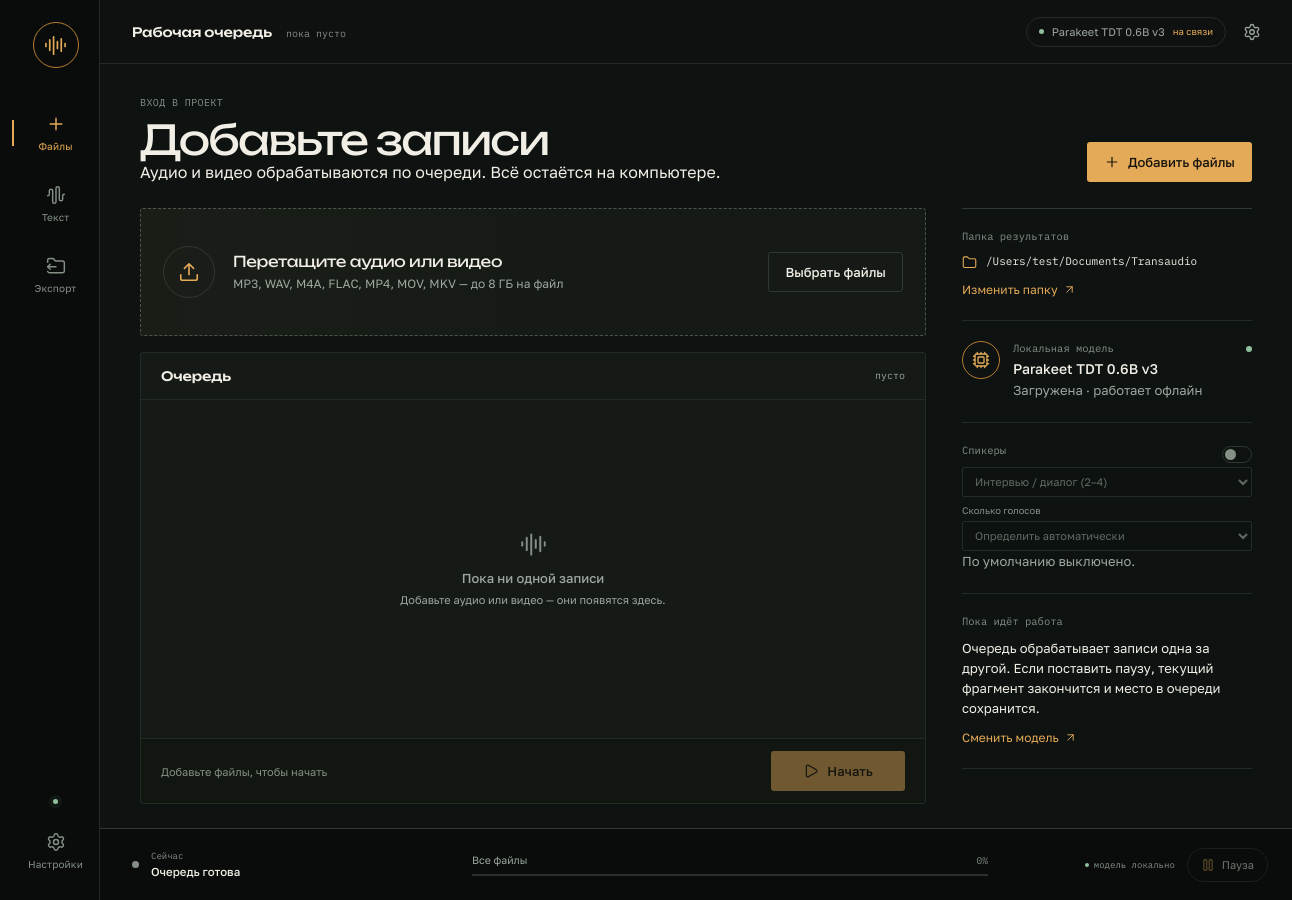
app shell › starts only new files and opens a finished transcript on click
The width and height of the screenshot is (1292, 900).
Check: the navigation bar named "Основная навигация" is shown, box [12, 102, 99, 306]
Click the button "Добавить файлы" at (1170, 162), box [1087, 142, 1252, 182]
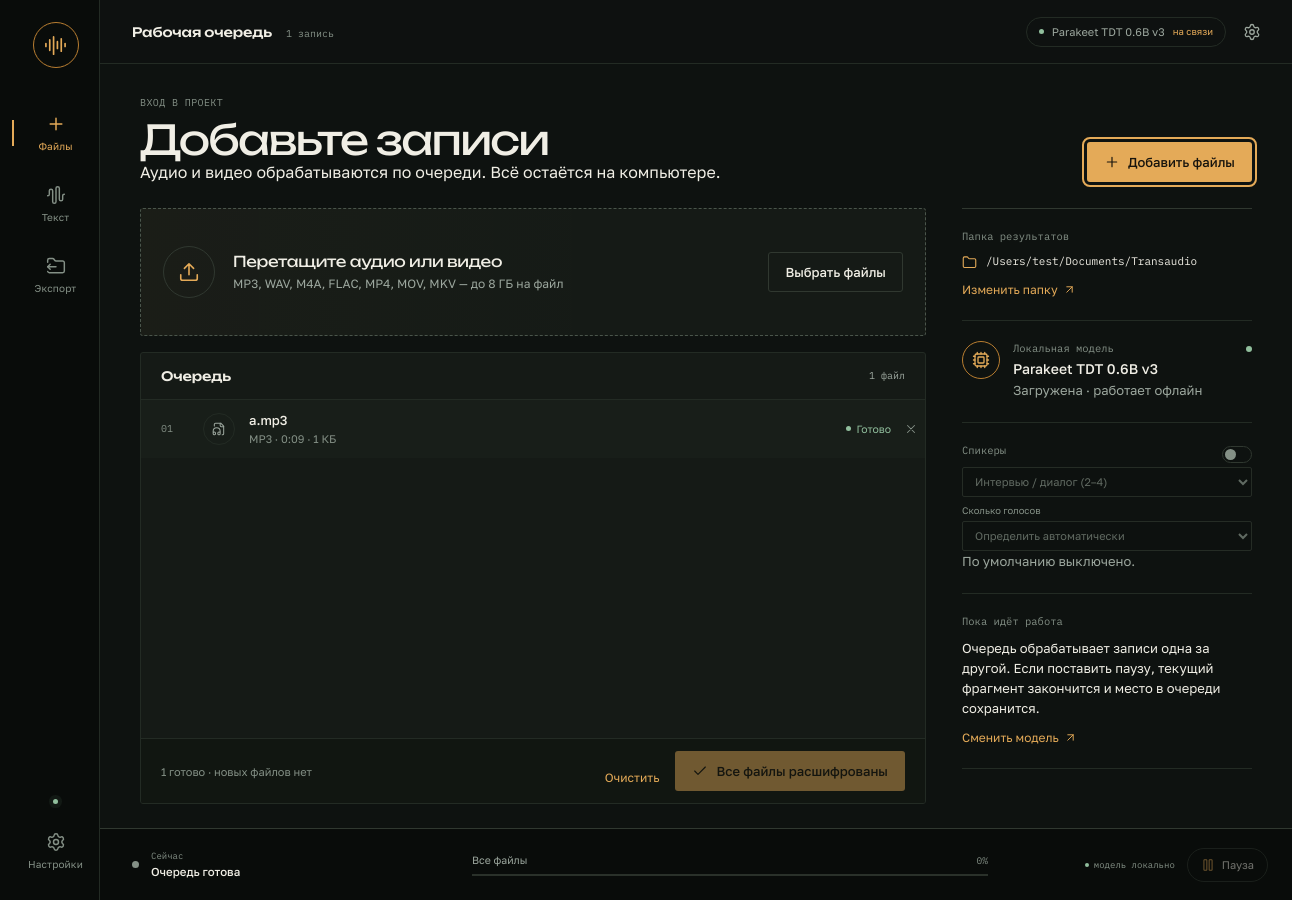
Check: the text "Готово" is shown, box [846, 423, 891, 435]
Click the button "Добавить файлы" at (1170, 162), box [1087, 142, 1252, 182]
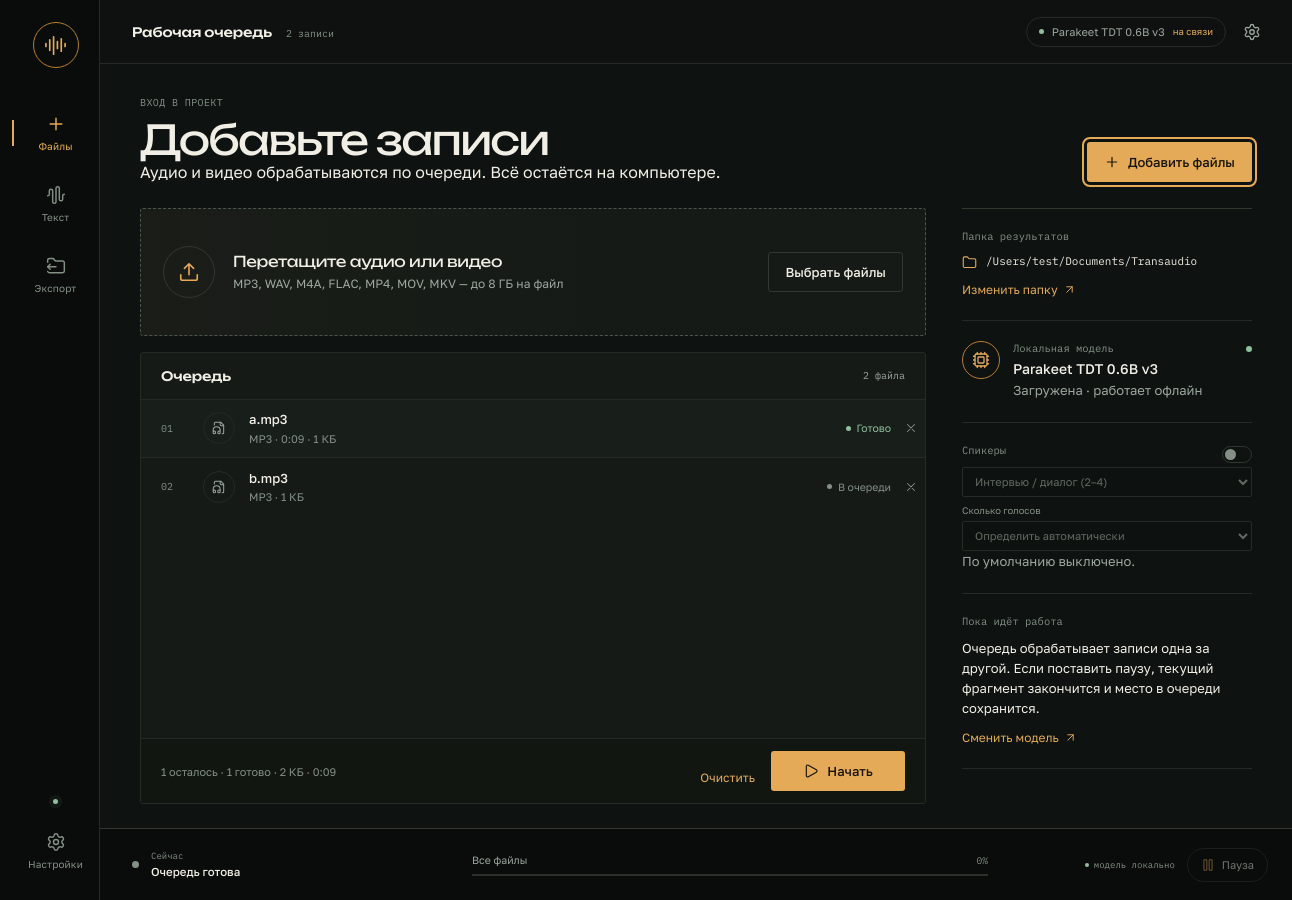
Check: the text "b.mp3" is shown, box [249, 470, 288, 486]
Click the button "Начать" at (838, 771), box [771, 751, 905, 791]
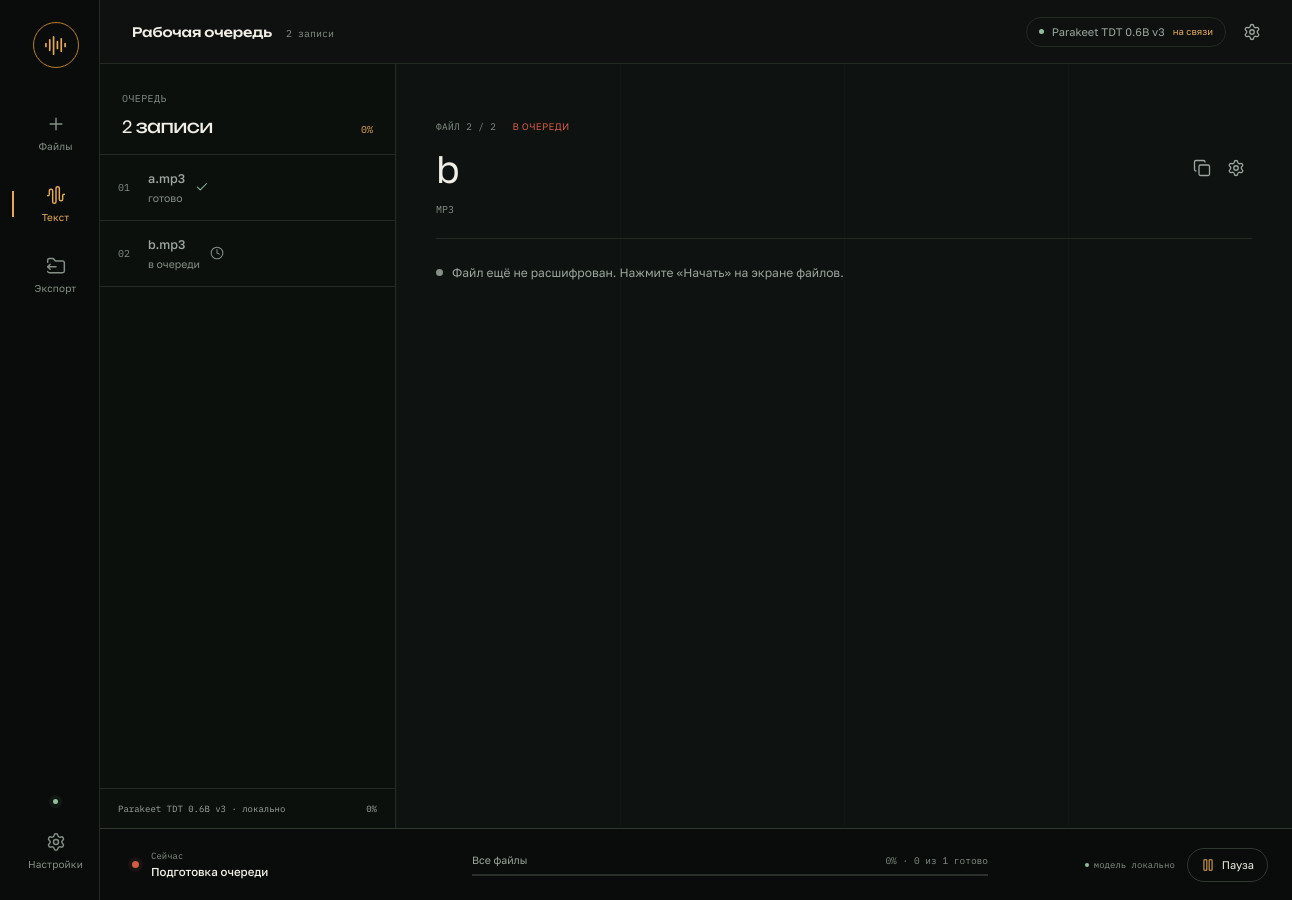
Click the button "Файлы" at (56, 133), box [12, 102, 99, 164]
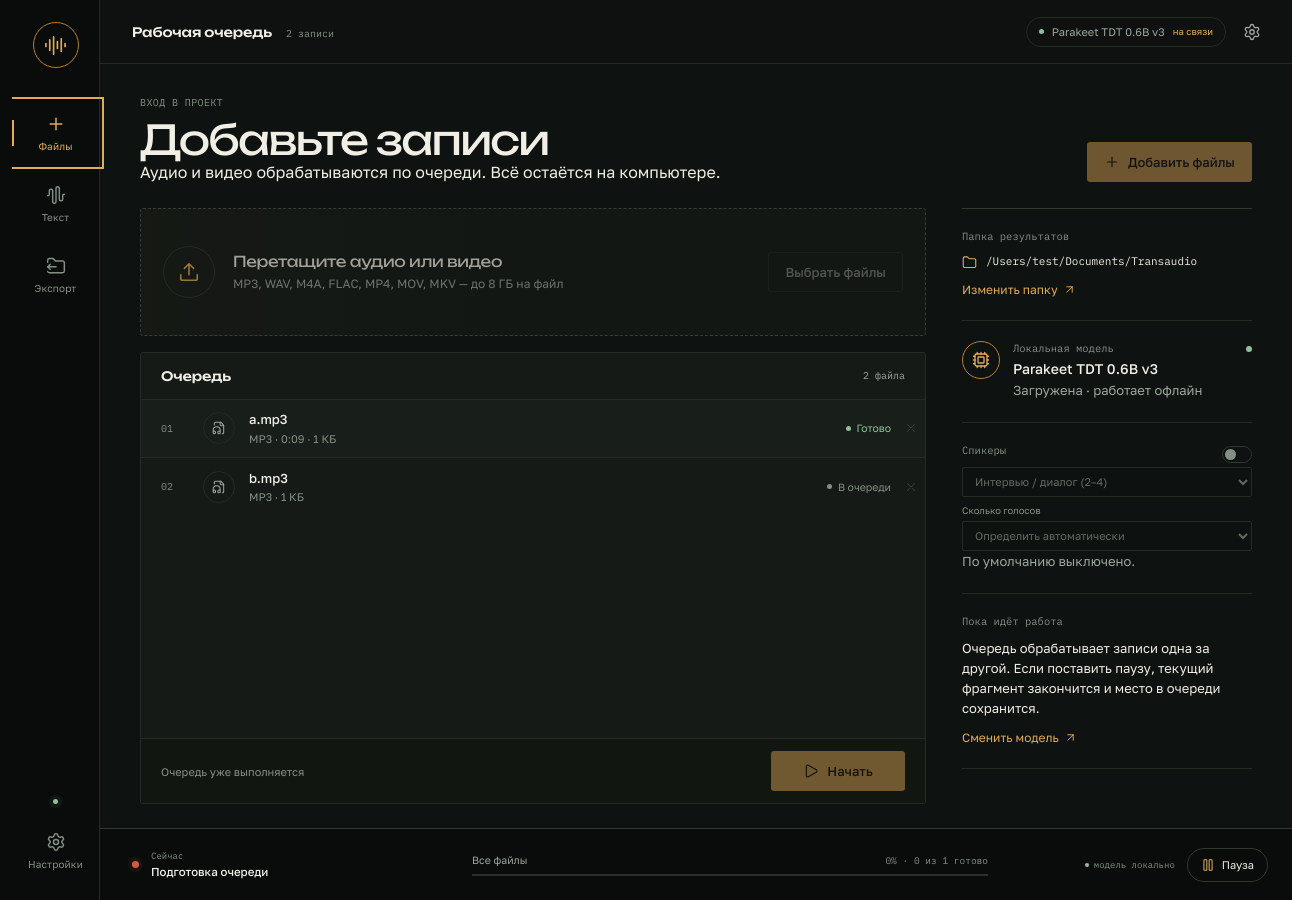
Click the button with aria-label "Открыть расшифровку a.mp3" at (219, 428), box [141, 400, 897, 456]
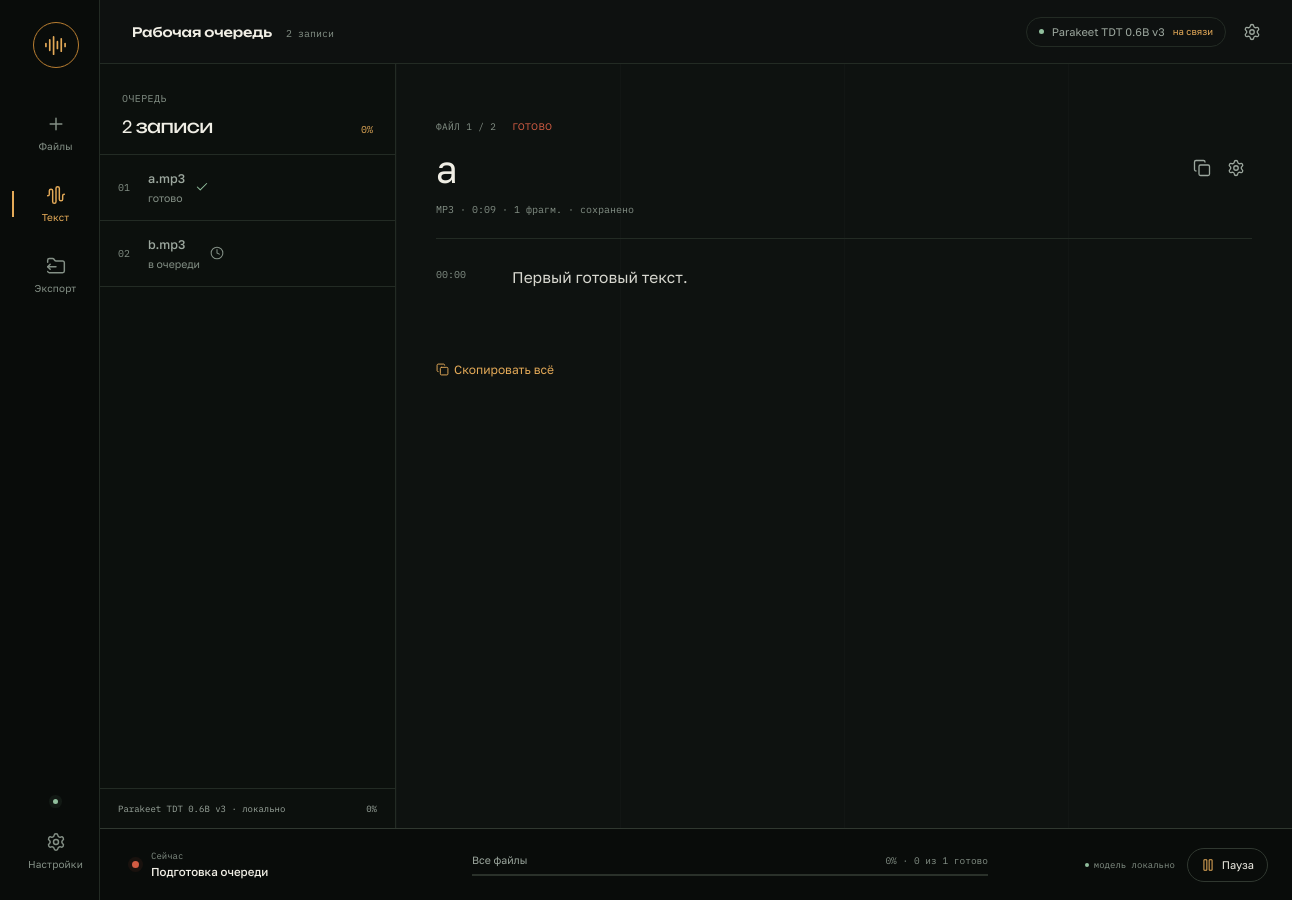
Check: the text "Первый готовый текст." is shown, box [512, 268, 688, 286]
